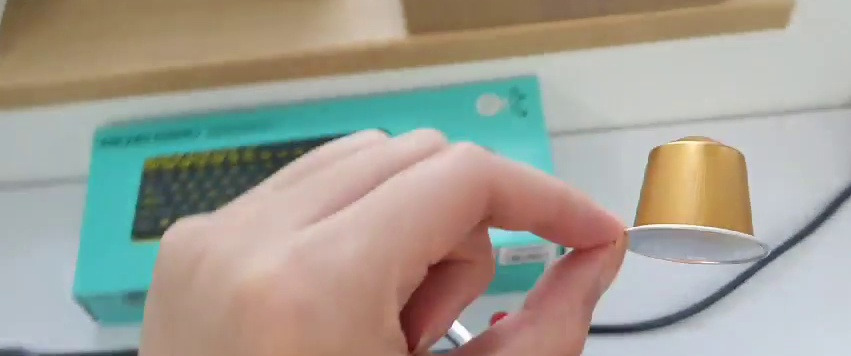capsule_8: (620, 130, 771, 269)
